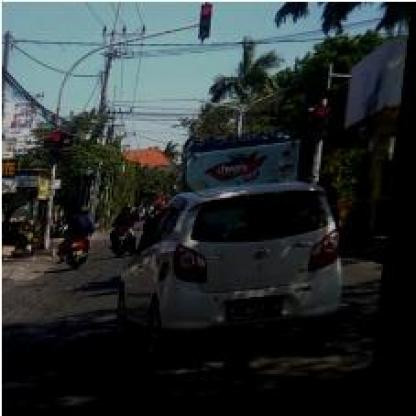red: (196, 7, 211, 44), (317, 111, 332, 146), (50, 132, 64, 169)
